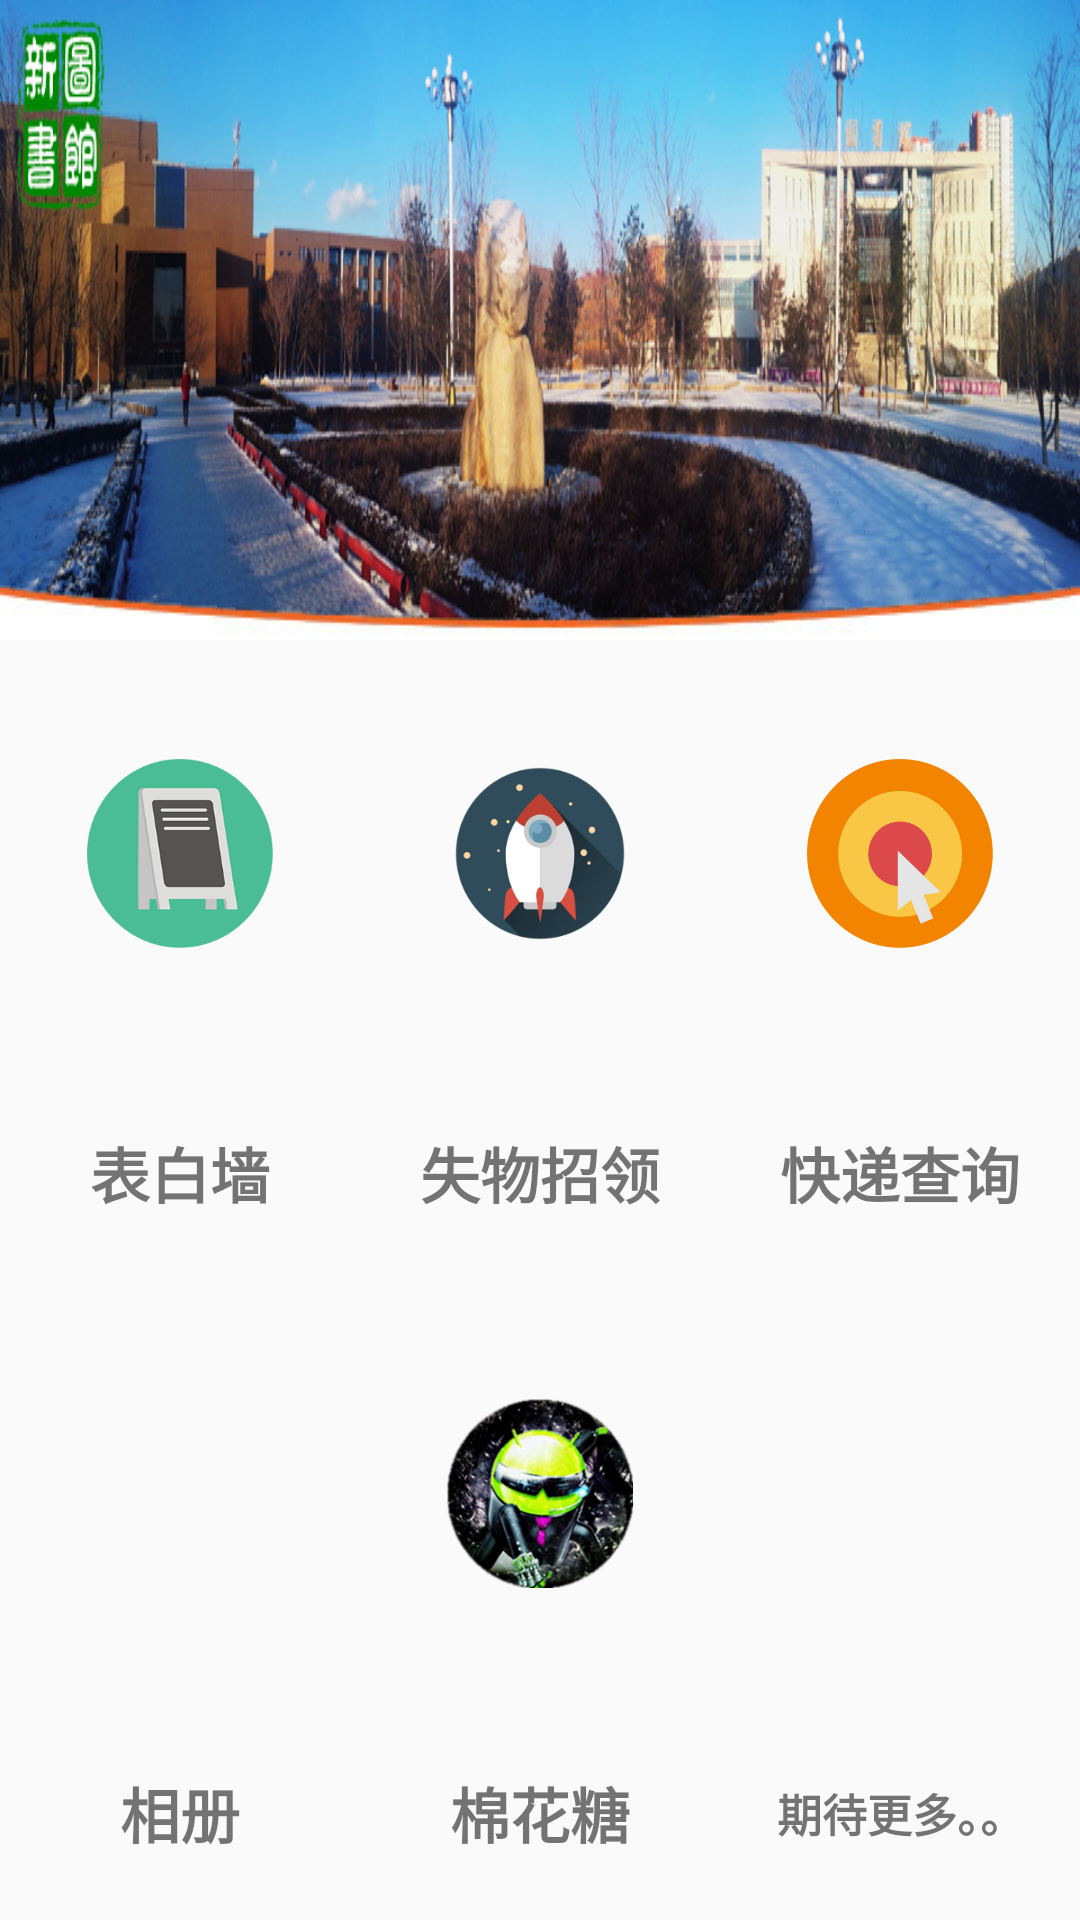

Where to tap for icons on this 1080px x 1920px app screen, as (x,y):
jiubiao: (900,853)
jiuhuojian: (540,853)
jiupaizi: (180,853)
